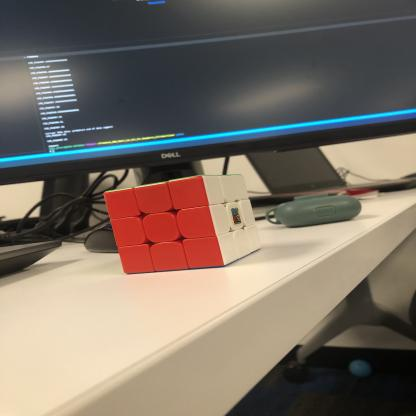SolvedCube: (101, 177, 270, 271)
